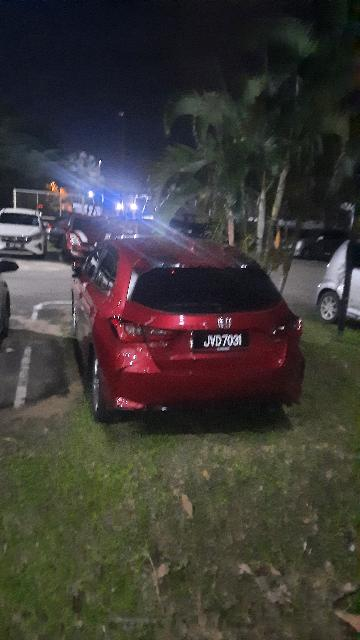License_Plate: (192, 327, 252, 352)
car: (71, 237, 307, 420)
